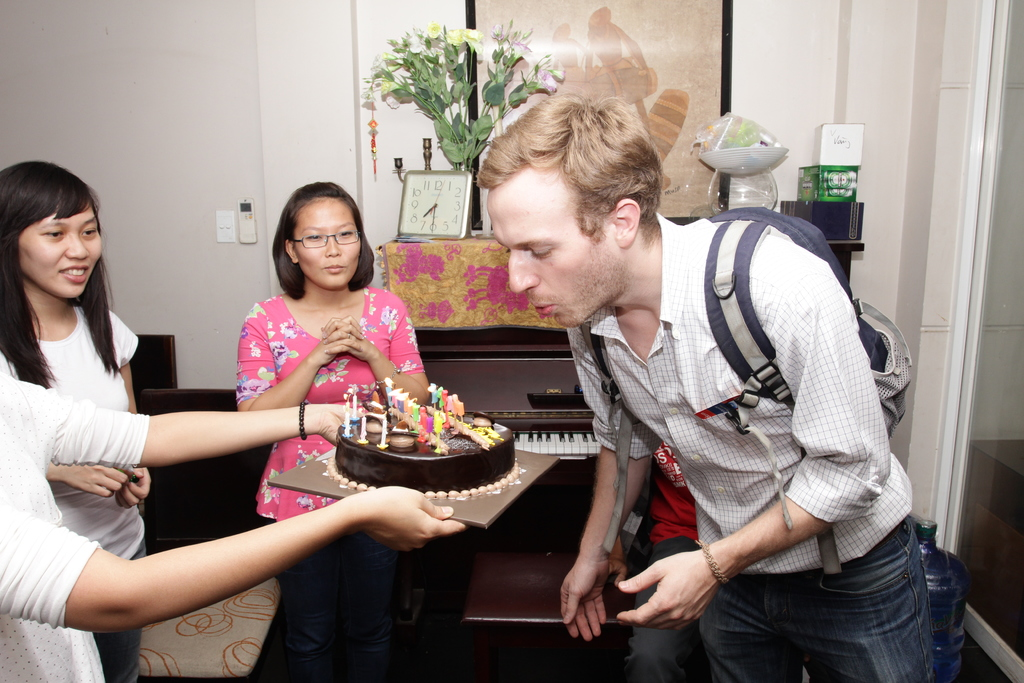cake: (326, 413, 522, 497)
